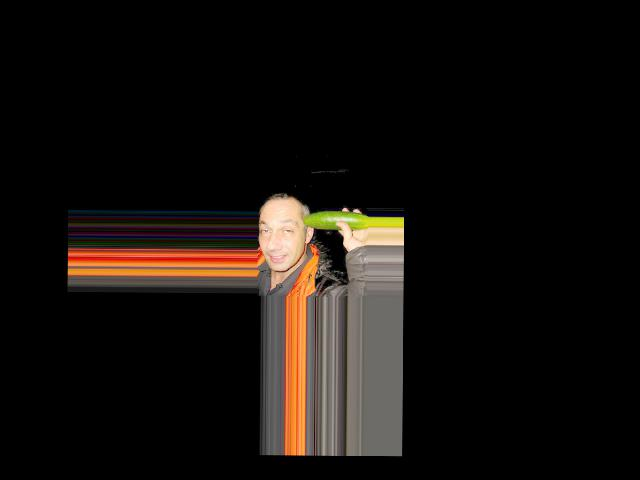cucumber: (302, 211, 368, 230)
